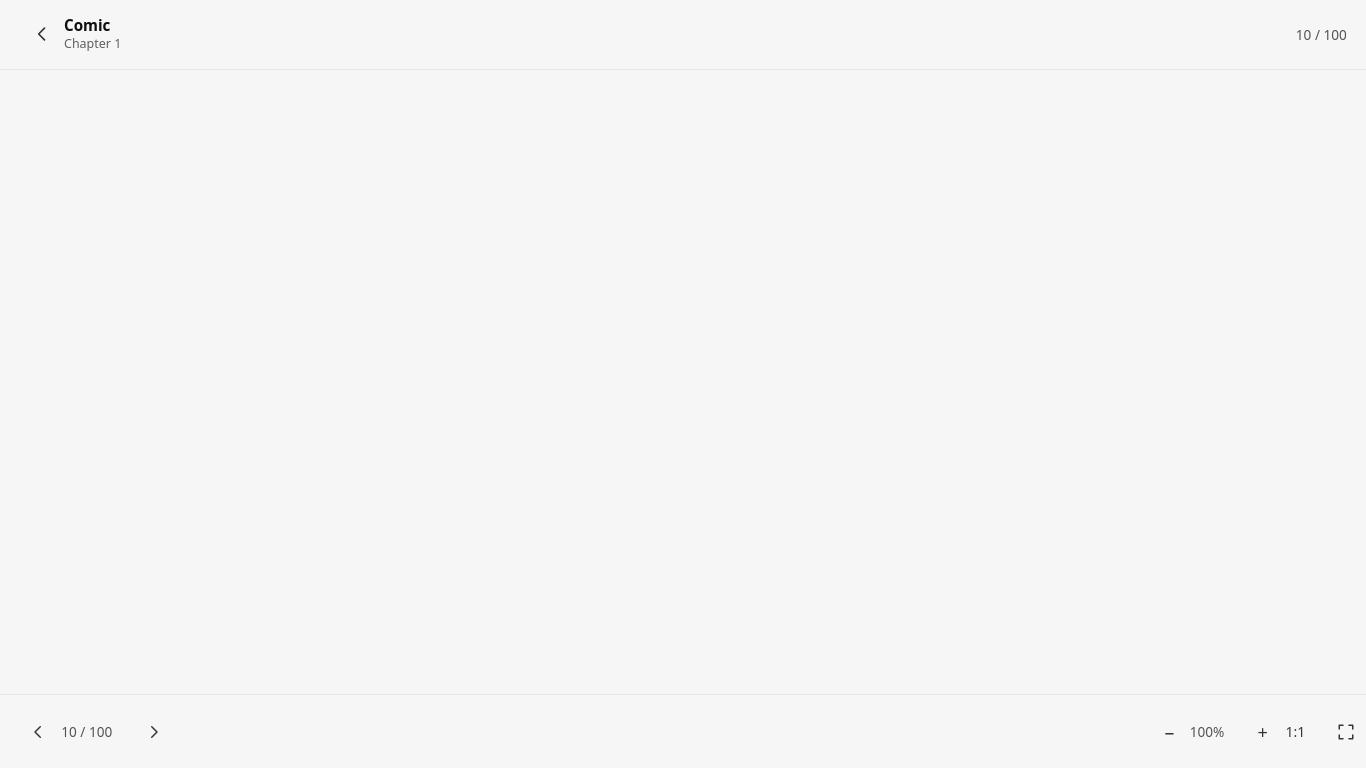
Scenario: ReaderChrome page jump › cancels with Escape without jumping
The width and height of the screenshot is (1366, 768).
Click the button with class "reader-page-jump__button" in the row of "Chapter 1" at (1321, 34), box [1289,18,1354,50]
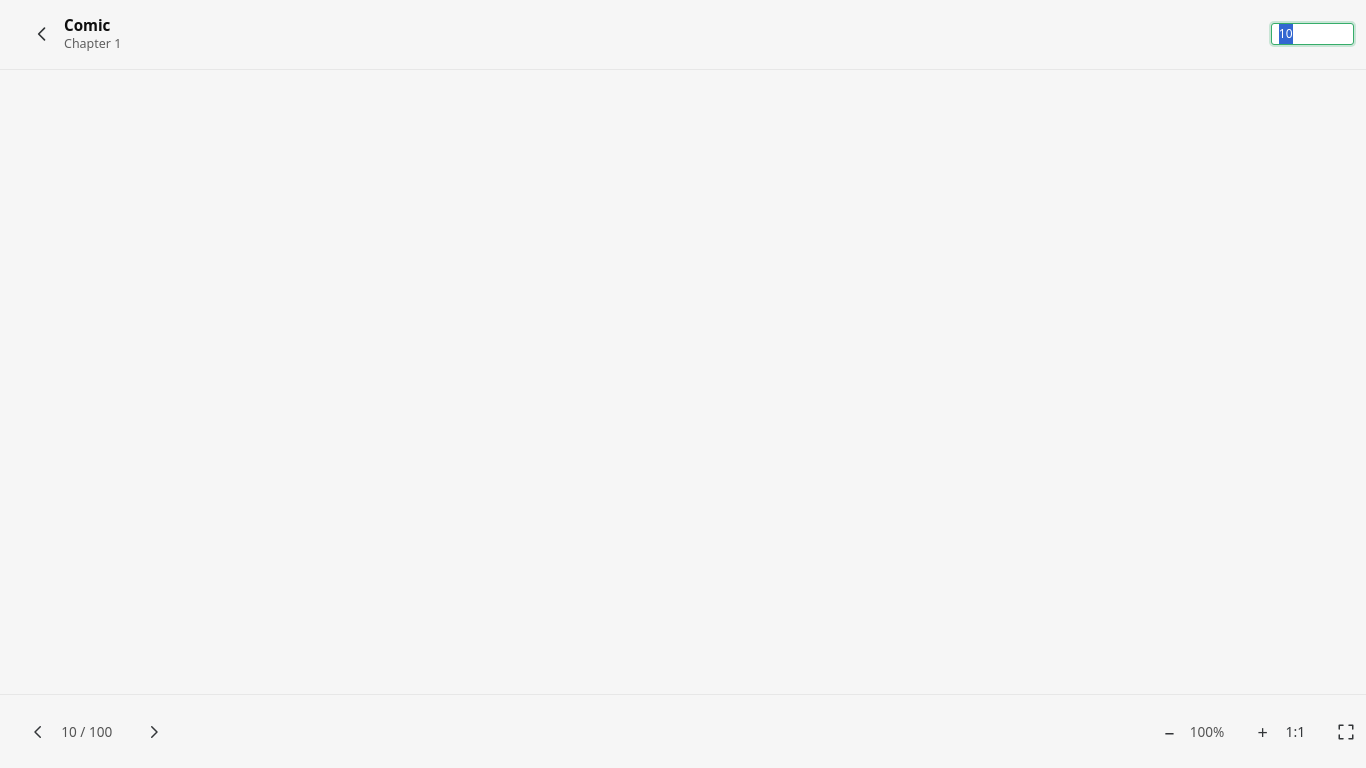
Replace the text in the field named "Go to page" with "42" at (1312, 34), box [1279,23,1346,45]
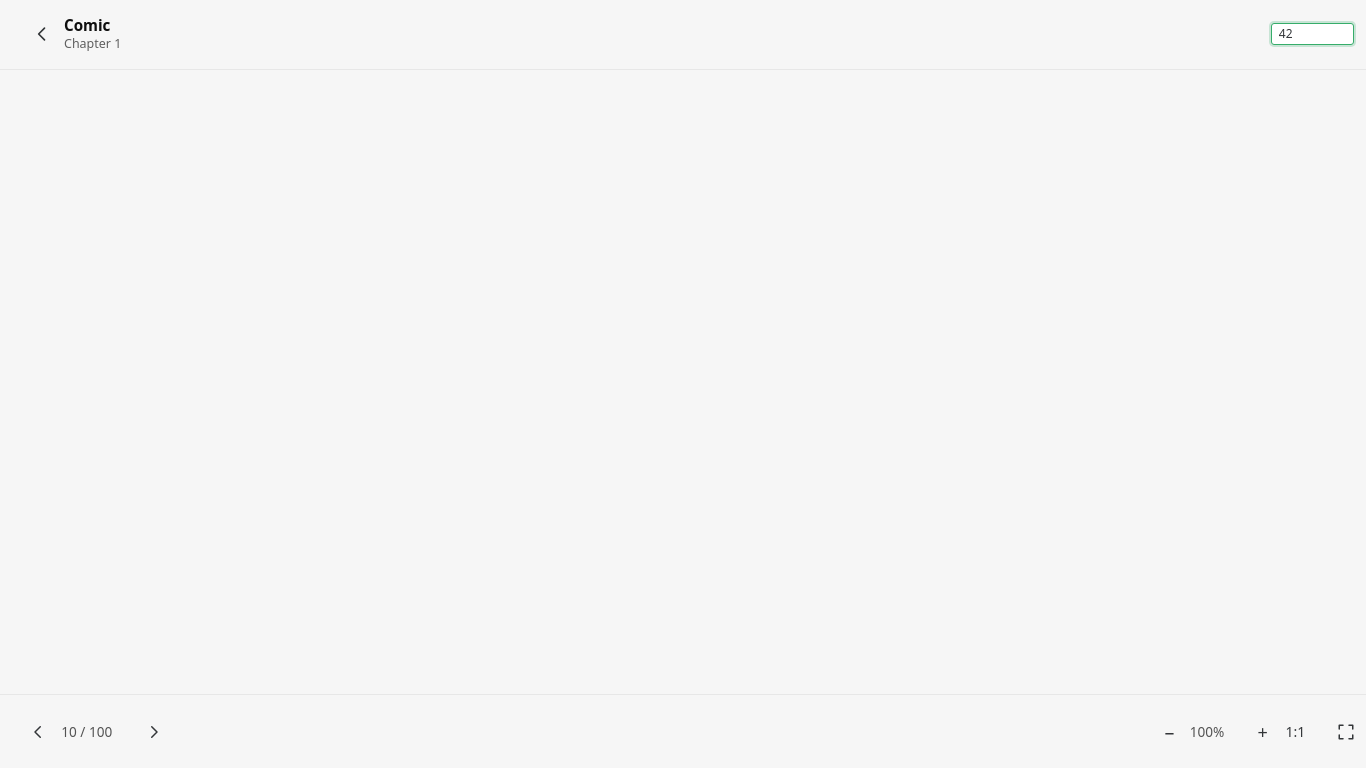
Press Escape in the field named "Go to page", box [1279,23,1346,45]
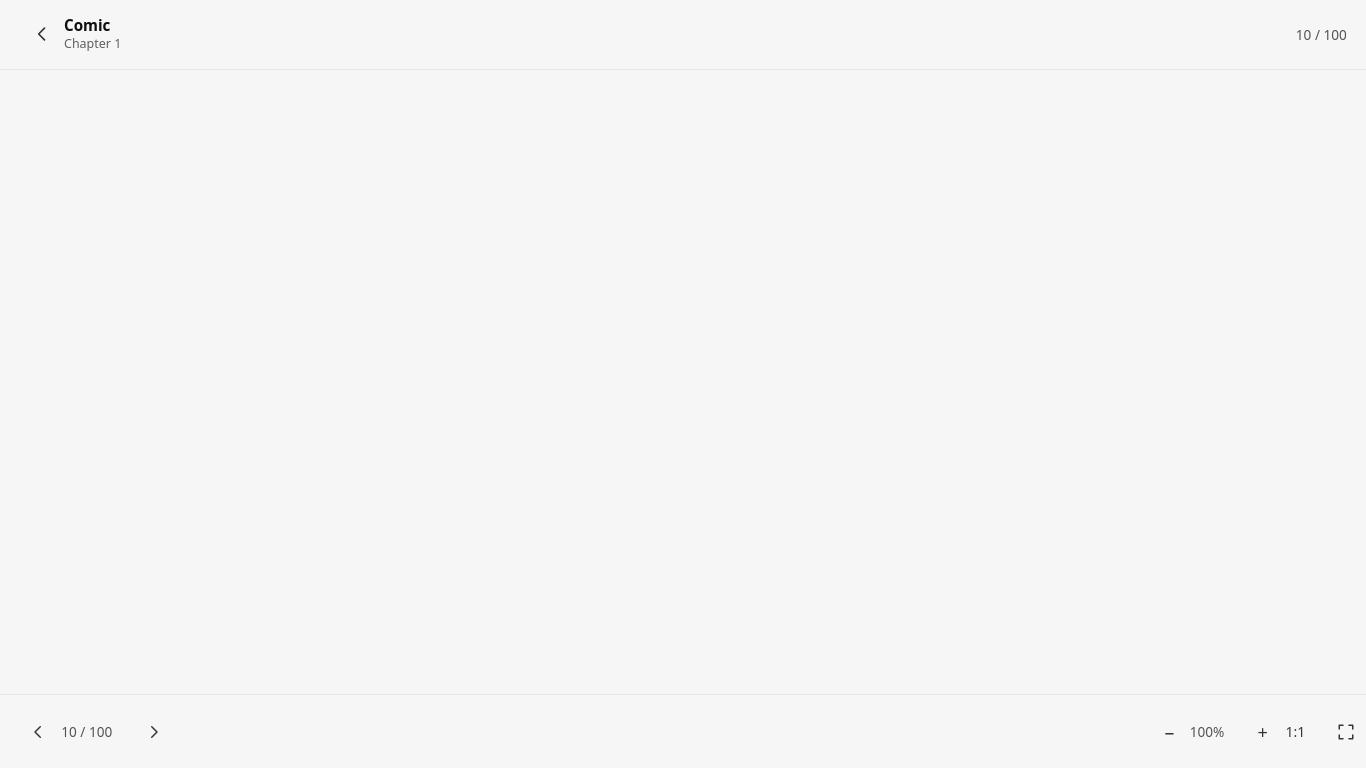
Expected: the button with class "reader-page-jump__button" in the row of "Chapter 1" is shown, [1289,18,1354,50]
